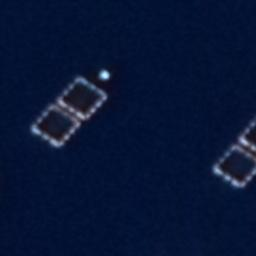square_solid: (55, 76, 110, 122), (30, 103, 82, 150), (211, 143, 256, 188)
